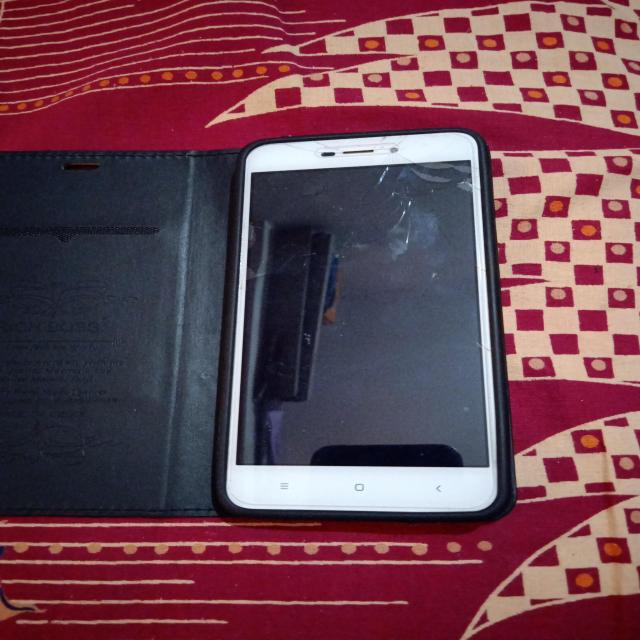mobile-phone: (125, 86, 583, 551)
